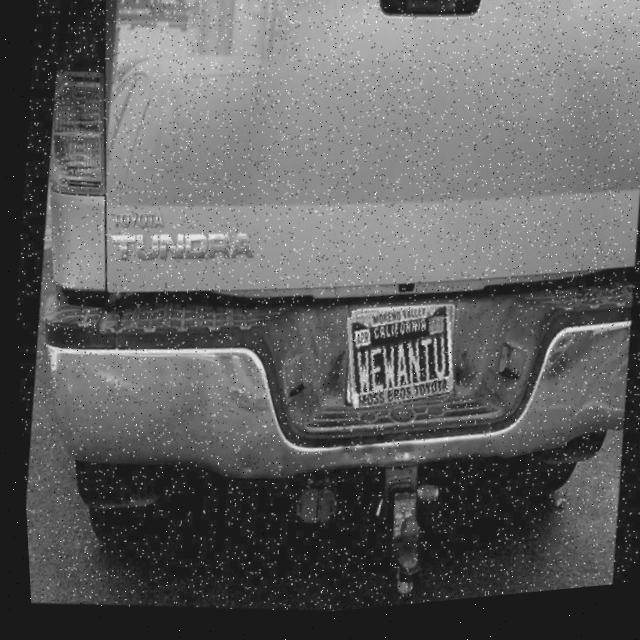LicensePlate: (332, 303, 460, 424)
